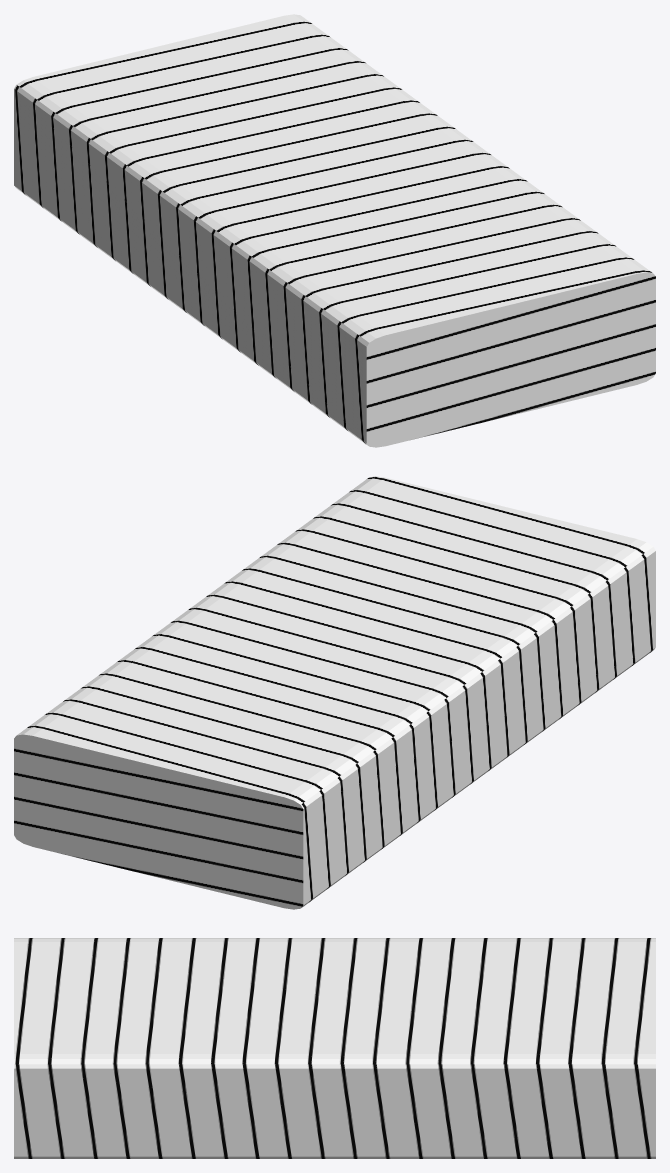
File: SUSHI.fbx
3 views of the same model, one above another, from view 1: azimuth 30°, elevation 25°; view 2: azimuth 150°, elevation 25°; view 3: azimuth 270°, elevation 25° (orthographic). The views are drawn at different scales.
Visible parts, largest first — view 1: Cube; view 2: Cube; view 3: Cube.
Boxes of the visible parts, left/top/right/bottom form: Cube: left=14, top=14, right=655, bottom=447; Cube: left=14, top=476, right=655, bottom=909; Cube: left=14, top=938, right=655, bottom=1158.
Bounding box in the file's own units: 501 × 184 × 1059.
